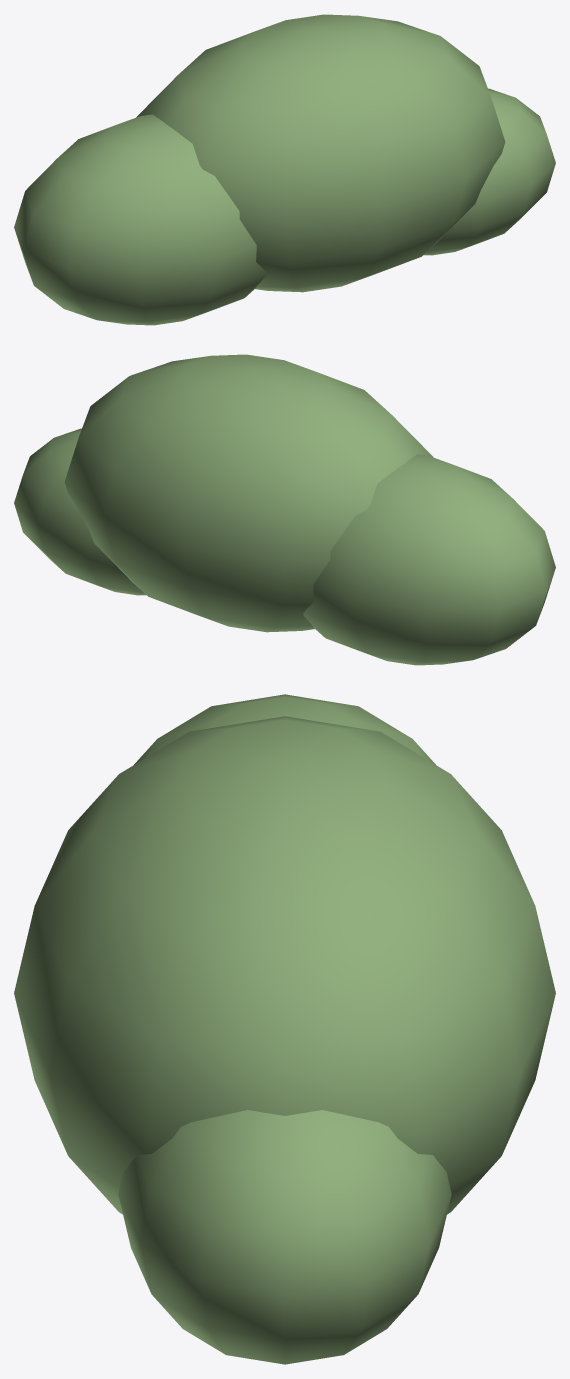
File: bush.glb
The picture shows the model from 3 angles, top to bottom: view 1: azimuth 30°, elevation 25°; view 2: azimuth 150°, elevation 25°; view 3: azimuth 270°, elevation 25°; orthographic projection. The views are drawn at different scales.
Visible parts, largest first — view 1: body; view 2: body; view 3: body.
Boxes of the visible parts, left/top/right/bottom form: body: left=14, top=14, right=555, bottom=325; body: left=14, top=354, right=555, bottom=665; body: left=14, top=694, right=555, bottom=1364.
Bounding box in the file's own units: 1.9 × 0.845 × 0.91.
